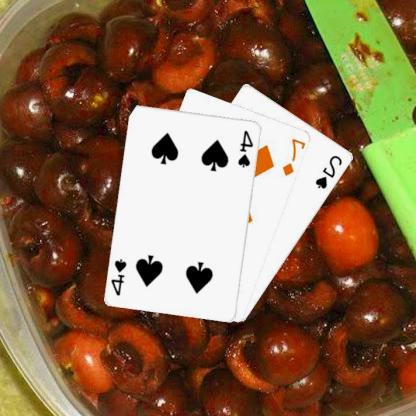2S: (314, 152, 346, 190)
4S: (110, 256, 130, 297), (237, 128, 257, 168)
7D: (282, 136, 307, 178)
